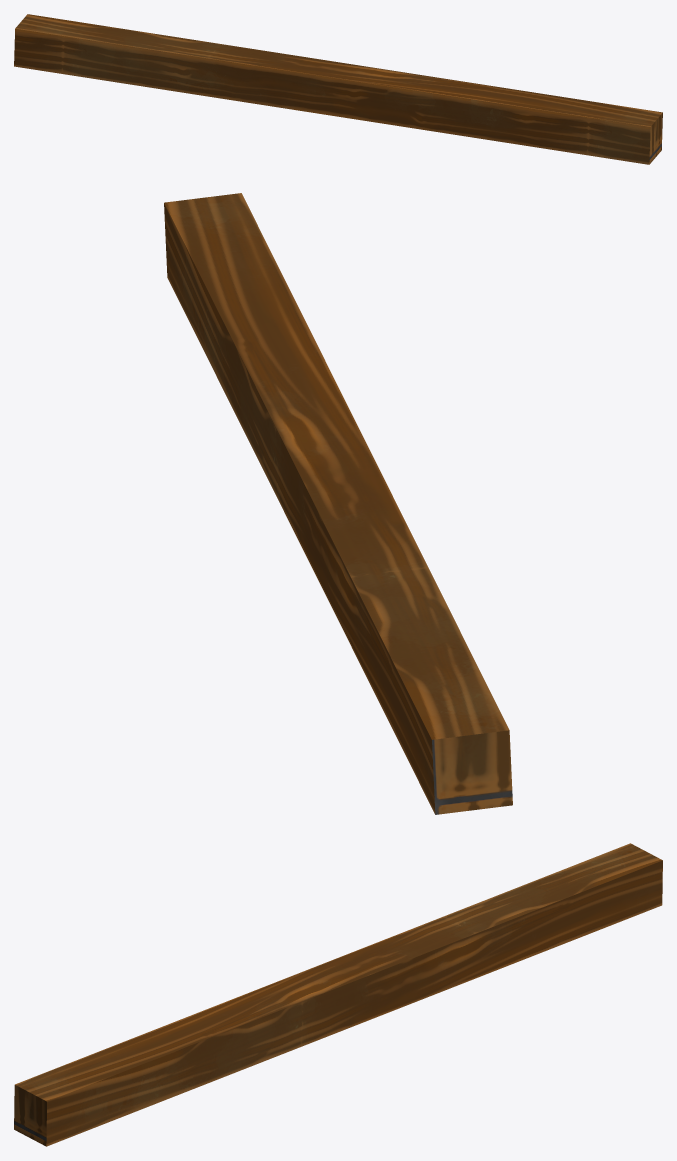
The picture shows the model from 3 angles, top to bottom: view 1: azimuth 30°, elevation 25°; view 2: azimuth 150°, elevation 25°; view 3: azimuth 270°, elevation 25°; orthographic projection. The views are drawn at different scales.
Visible parts, largest first — view 1: Cube.721; view 2: Cube.721; view 3: Cube.721.
Boxes of the visible parts, x1,y1,x2,y2 form: Cube.721: [14, 14, 662, 164]; Cube.721: [164, 193, 512, 814]; Cube.721: [14, 843, 662, 1146].
Bounding box in the file's own units: 677 × 74.68 × 753.
Materials: 1 (1 with a texture image).
